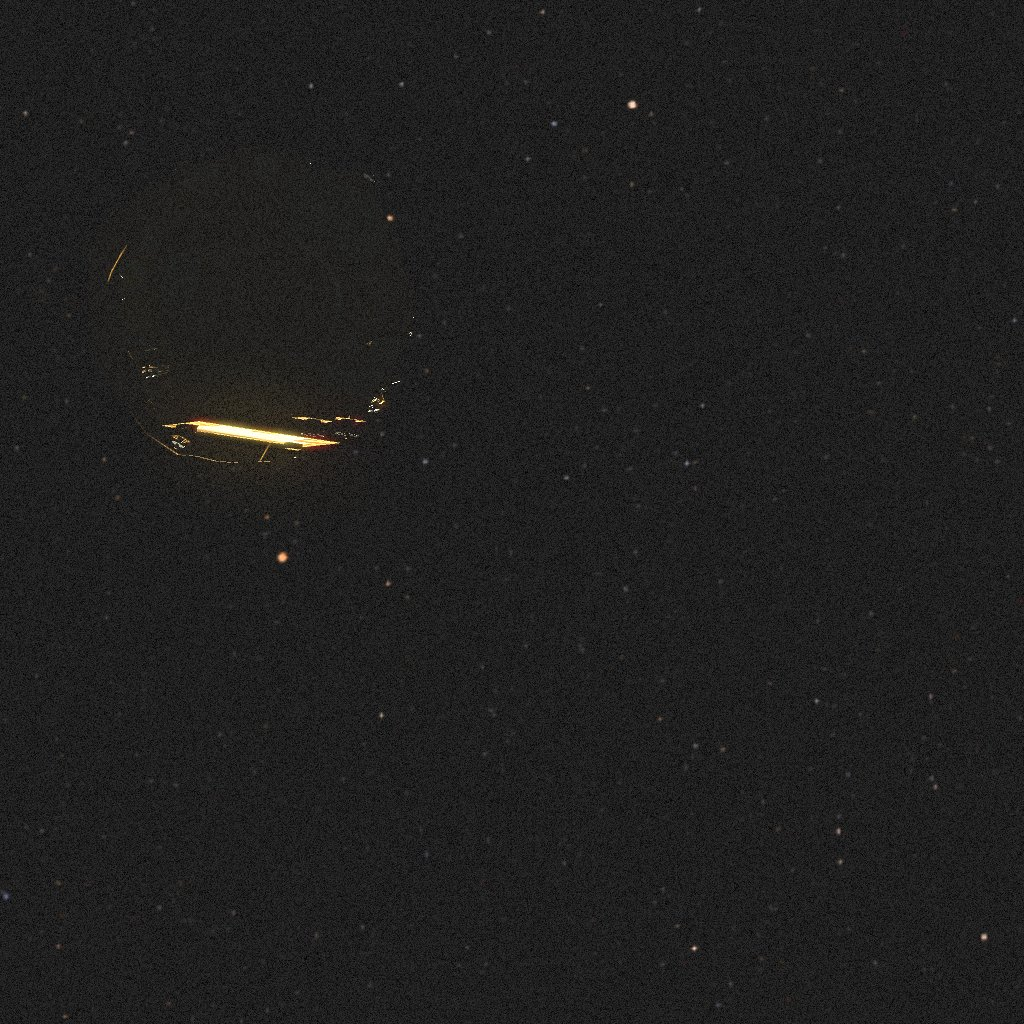lisa_pathfinder: (89, 145, 414, 470)
